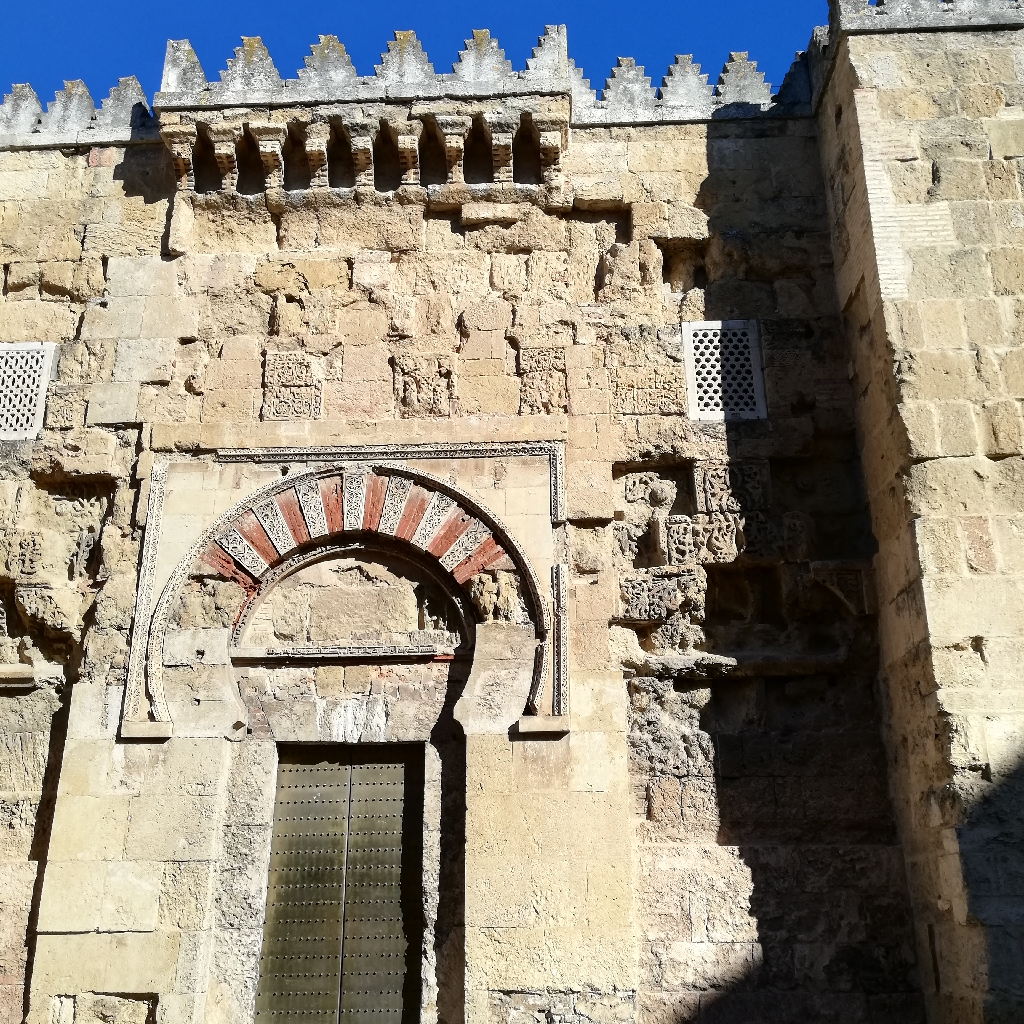arco-herradura: (207, 511, 490, 763)
